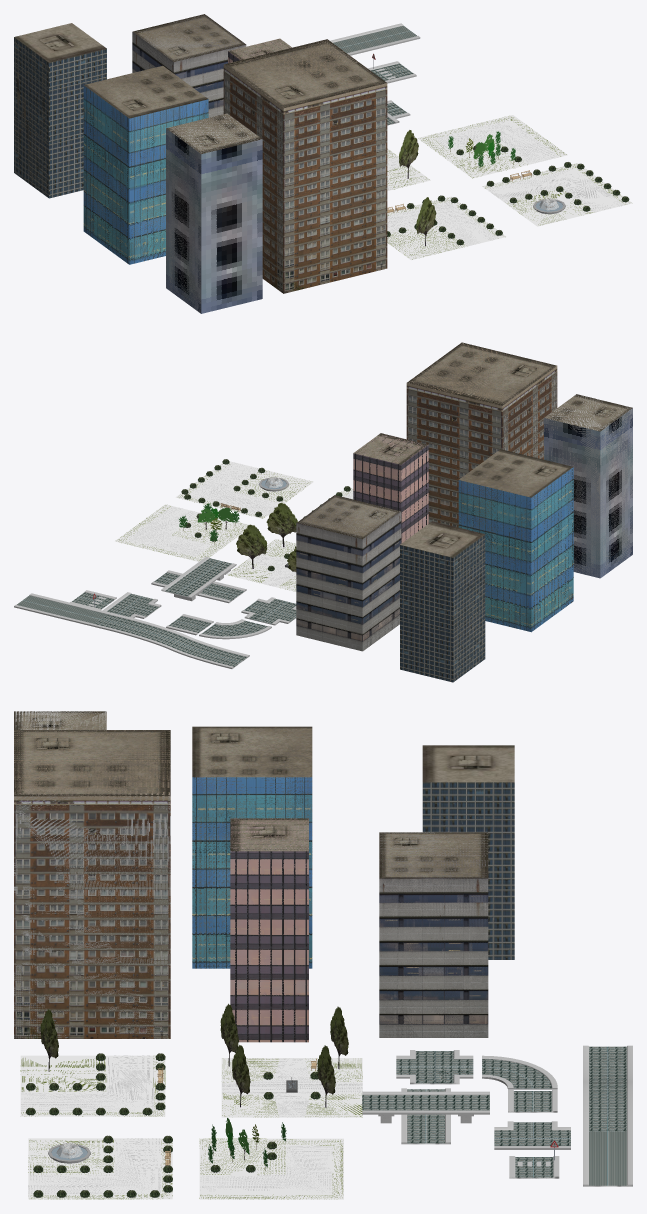
The picture shows the model from 3 angles, top to bottom: view 1: azimuth 30°, elevation 25°; view 2: azimuth 150°, elevation 25°; view 3: azimuth 270°, elevation 25°; orthographic projection. The views are drawn at different scales.
Visible parts, largest first — view 1: Component_2 (×2), Component_1 (×3), Component_8 (×2), Building (×3), Component_5 (×2), group_4 (×2), group_3 (×3), group_0 (×3), _2D_semi_realistic_spruce_tree (×2), group_10 (×2), group_2, Component_3; view 2: Component_2 (×2), Component_8 (×2), Component_5 (×2), Building (×3), Component_1 (×2), Component_3 (×2), group_10 (×4), group_4 (×2), group_3 (×3), _2D_semi_realistic_spruce_tree (×2), group_2 (×2), group_8 (×2); view 3: Component_2 (×2), Component_5 (×2), Component_8 (×2), Component_3 (×2), Building (×2), group_4 (×2), group_0 (×3), group_3 (×3), group_2 (×5), group_10 (×4), group_8 (×2), Component_1 (+2 smaller).
Part boxes in pixels (x1,y1,x2,y2): Component_2 (×2): (223, 39, 387, 293); Component_1 (×3): (166, 113, 262, 313); Component_8 (×2): (83, 65, 208, 264); Building (×3): (14, 23, 106, 198); Component_5 (×2): (132, 14, 246, 117); group_4 (×2): (417, 115, 567, 178); group_3 (×3): (482, 163, 632, 226); group_0 (×3): (387, 196, 506, 260); _2D_semi_realistic_spruce_tree (×2): (399, 130, 436, 246); group_10 (×2): (333, 25, 416, 52); group_2: (387, 165, 430, 189); Component_3: (228, 38, 291, 60); Component_2 (×2): (406, 342, 557, 527); Component_8 (×2): (458, 449, 573, 632); Component_5 (×2): (296, 495, 401, 651); Building (×3): (400, 521, 485, 682); Component_1 (×2): (544, 394, 632, 578); Component_3 (×2): (353, 433, 428, 543); group_10 (×4): (14, 593, 249, 668); group_4 (×2): (115, 504, 249, 561); group_3 (×3): (175, 461, 313, 518); _2D_semi_realistic_spruce_tree (×2): (236, 503, 297, 568); group_2 (×2): (226, 554, 296, 587); group_8 (×2): (165, 558, 232, 596); Component_2 (×2): (14, 730, 170, 1038); Component_5 (×2): (379, 832, 488, 1037); Component_8 (×2): (192, 726, 312, 968); Component_3 (×2): (230, 818, 308, 1042); Building (×2): (422, 745, 514, 959); group_4 (×2): (199, 1138, 343, 1199); group_0 (×3): (20, 1055, 165, 1116); group_3 (×3): (28, 1138, 172, 1199); group_2 (×5): (221, 1058, 362, 1117); group_10 (×4): (583, 1045, 632, 1185); group_8 (×2): (362, 1095, 489, 1110); Component_1: (14, 711, 106, 729).
Bounding box in the file's own units: 3374 × 3133 × 1361.
